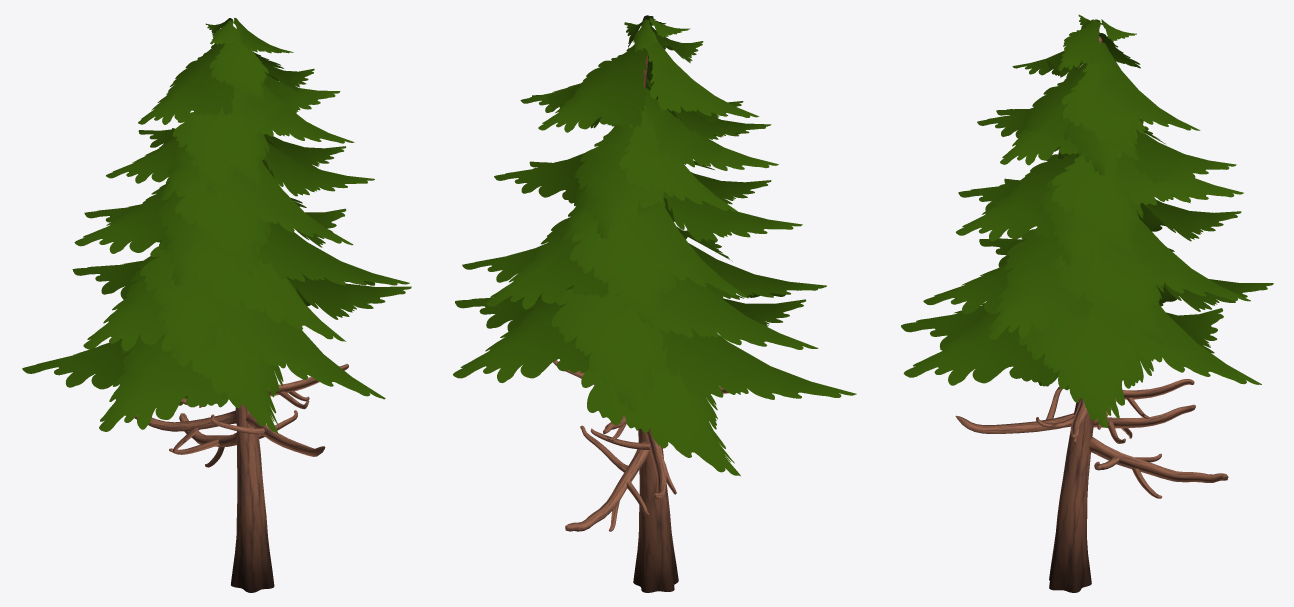
File: Pine_1.gltf
3 renders of one model, left to right at view 1: azimuth 30°, elevation 25°; view 2: azimuth 150°, elevation 25°; view 3: azimuth 270°, elevation 25°, orthographic. The views are drawn at different scales.
Parts seen in each view (by area): view 1: Pine_1; view 2: Pine_1; view 3: Pine_1.
Part boxes in pixels (<box>): Pine_1: <box>22,18,411,592</box>; Pine_1: <box>453,15,856,592</box>; Pine_1: <box>901,14,1273,592</box>.
Size of the model in its own units: 4.94 by 7.32 by 4.54.
Materials: 2 (2 with a texture image).
